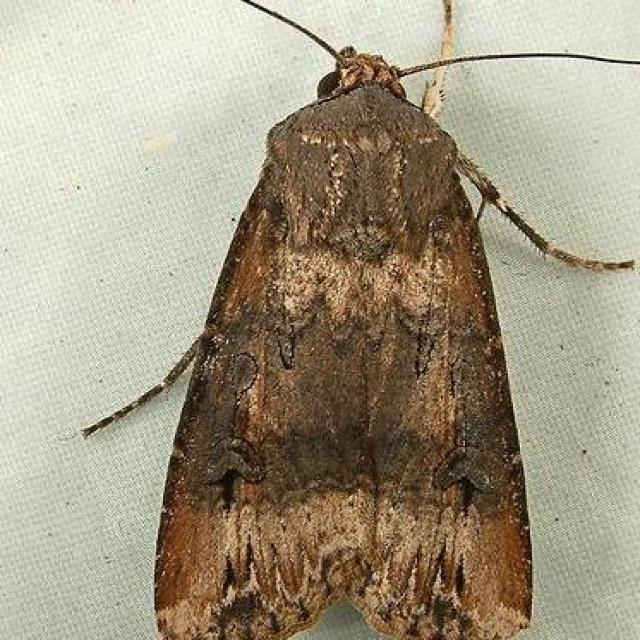black cutworm: (143, 27, 573, 634)
